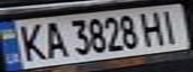2: (103, 14, 124, 52)
3: (66, 16, 90, 56)
8: (118, 11, 142, 51), (84, 15, 106, 55)
A: (39, 19, 69, 60)
H: (136, 9, 169, 47)
I: (154, 7, 187, 45)
K: (12, 20, 48, 63)
